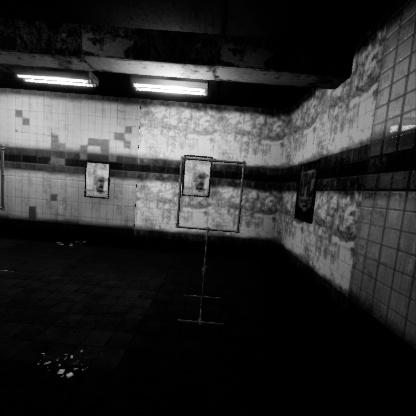gate: (176, 182, 252, 260)
